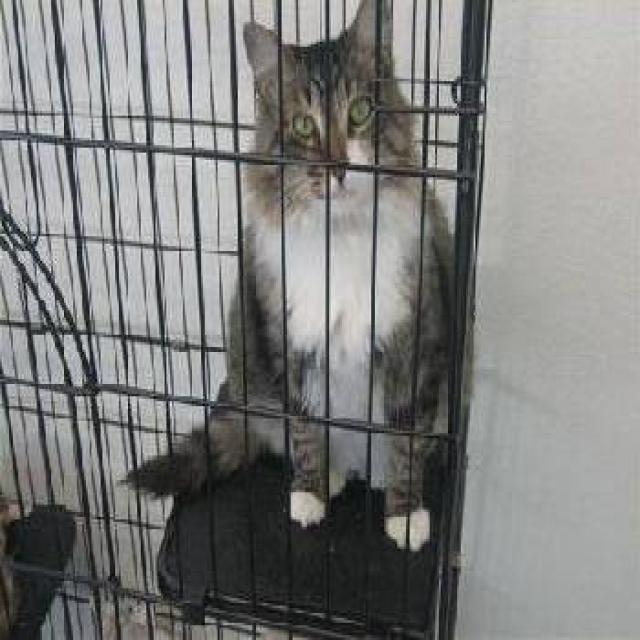cat: (117, 0, 461, 551)
